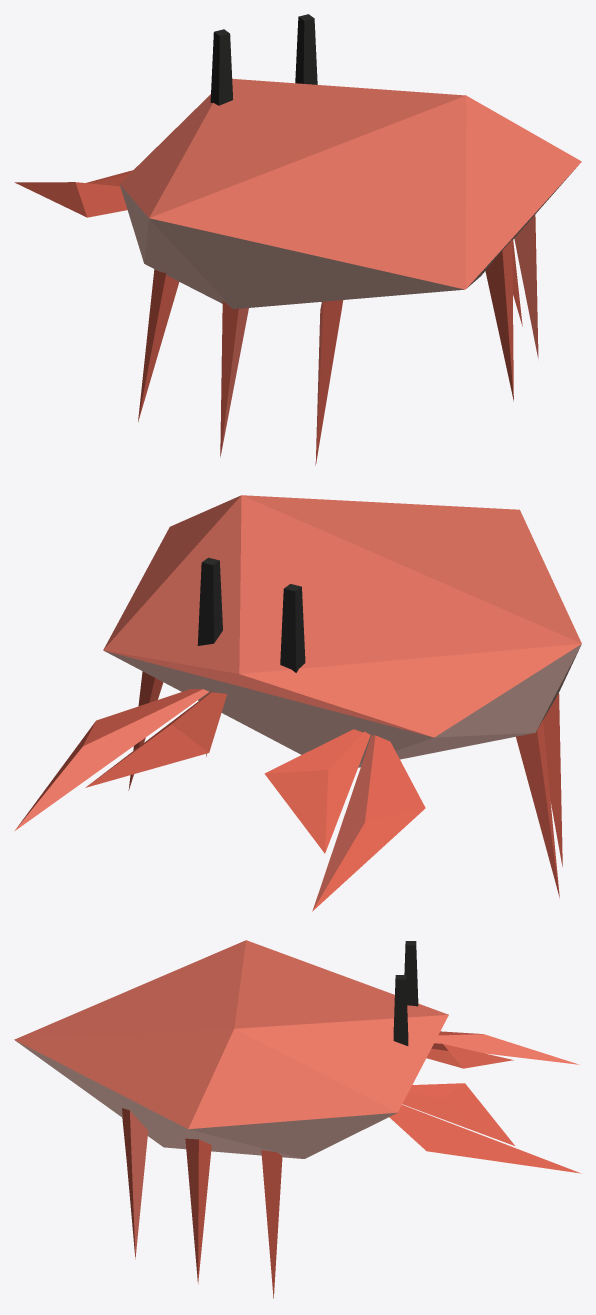
Rendered from crab.obj.
The picture shows the model from 3 angles, top to bottom: view 1: azimuth 30°, elevation 25°; view 2: azimuth 150°, elevation 25°; view 3: azimuth 270°, elevation 25°; orthographic projection. The views are drawn at different scales.
Parts seen in each view (by area): view 1: Crab; view 2: Crab; view 3: Crab.
Part boxes in pixels (x1,y1,x2,y2): Crab: [14, 14, 581, 465]; Crab: [14, 495, 581, 911]; Crab: [14, 940, 581, 1298].
Size of the model in its own units: 69.43 by 51.24 by 95.88.
1 material, 1 textured.
